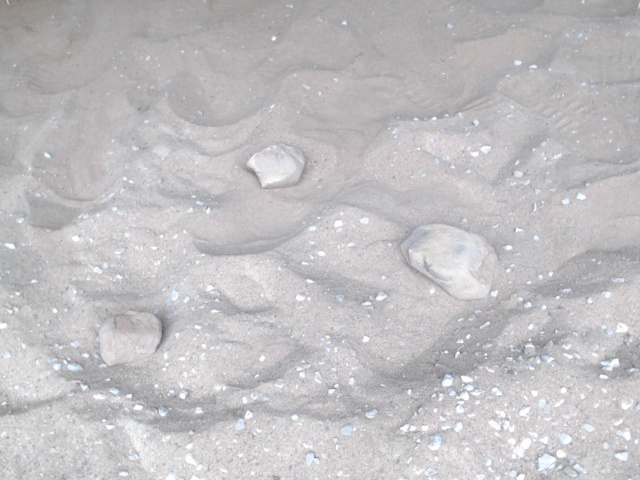rock: (394, 217, 503, 307), (94, 305, 166, 373), (241, 140, 311, 194)
